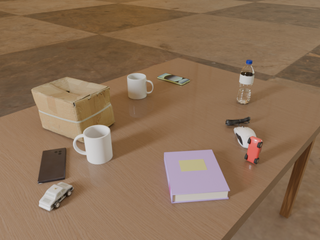book: (164, 150, 230, 203)
bottle: (237, 60, 254, 104)
box: (32, 77, 115, 143)
cup: (73, 125, 112, 164), (127, 73, 153, 99)
mouse: (234, 126, 256, 148)
phone: (38, 148, 66, 184), (158, 73, 190, 85)
toy_car: (39, 182, 73, 211), (245, 136, 263, 164)
